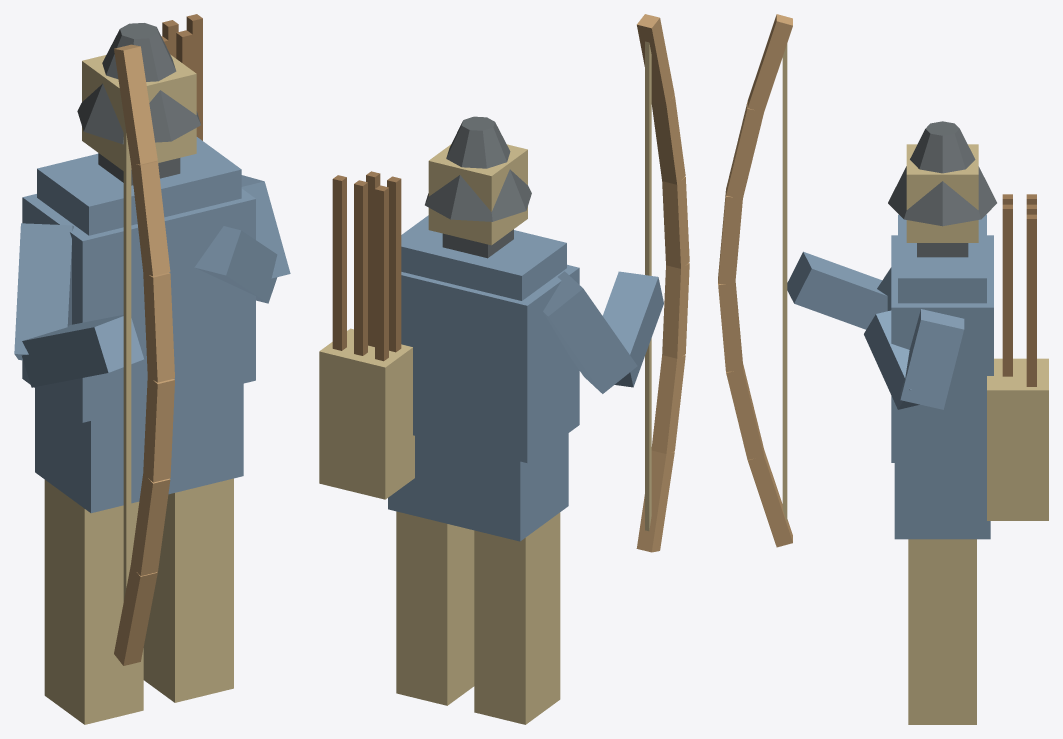
Rendered from archer.glb.
3 renders of one model, left to right at view 1: azimuth 30°, elevation 25°; view 2: azimuth 150°, elevation 25°; view 3: azimuth 270°, elevation 25°, orthographic. The views are drawn at different scales.
Visible parts, largest first — view 1: archer; view 2: archer; view 3: archer.
Part boxes in pixels (left/top/right/bottom): archer: left=14, top=14, right=290, bottom=724; archer: left=319, top=14, right=689, bottom=724; archer: left=718, top=14, right=1048, bottom=724.
Bounding box in the file's own units: 0.8101 × 2.04 × 0.9649.
